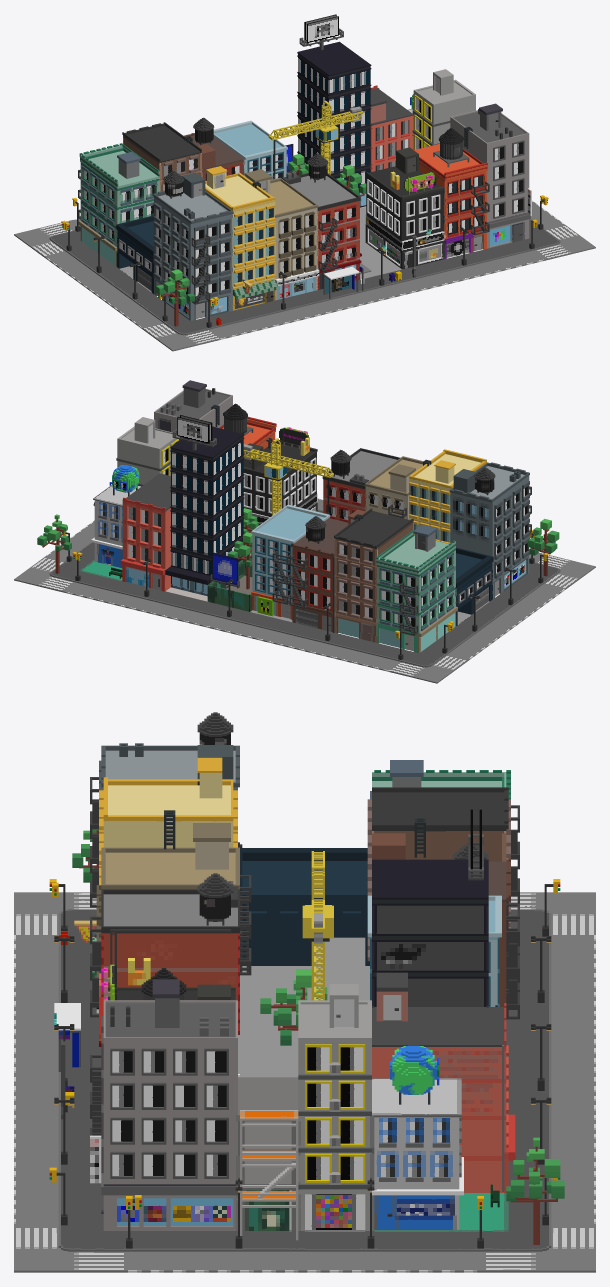
Rendered from Block_OG.glb.
3 views of the same model, one above another, from view 1: azimuth 30°, elevation 25°; view 2: azimuth 150°, elevation 25°; view 3: azimuth 270°, elevation 25° (orthographic). The views are drawn at different scales.
Visible parts, largest first — view 1: Block_OG; view 2: Block_OG; view 3: Block_OG.
Part boxes in pixels (x1,y1,x2,y2): Block_OG: (14, 14, 595, 351); Block_OG: (14, 380, 595, 683); Block_OG: (14, 712, 595, 1272).
Bounding box in the file's own units: 4 × 1.56 × 2.6.
1 material, 1 textured.
